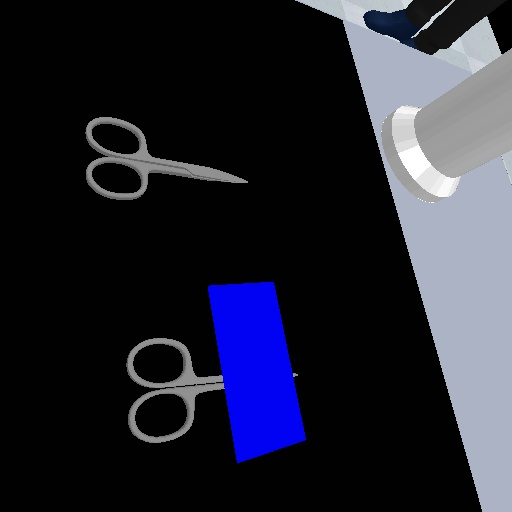tijera: (80, 112, 252, 204), (120, 334, 226, 446)
